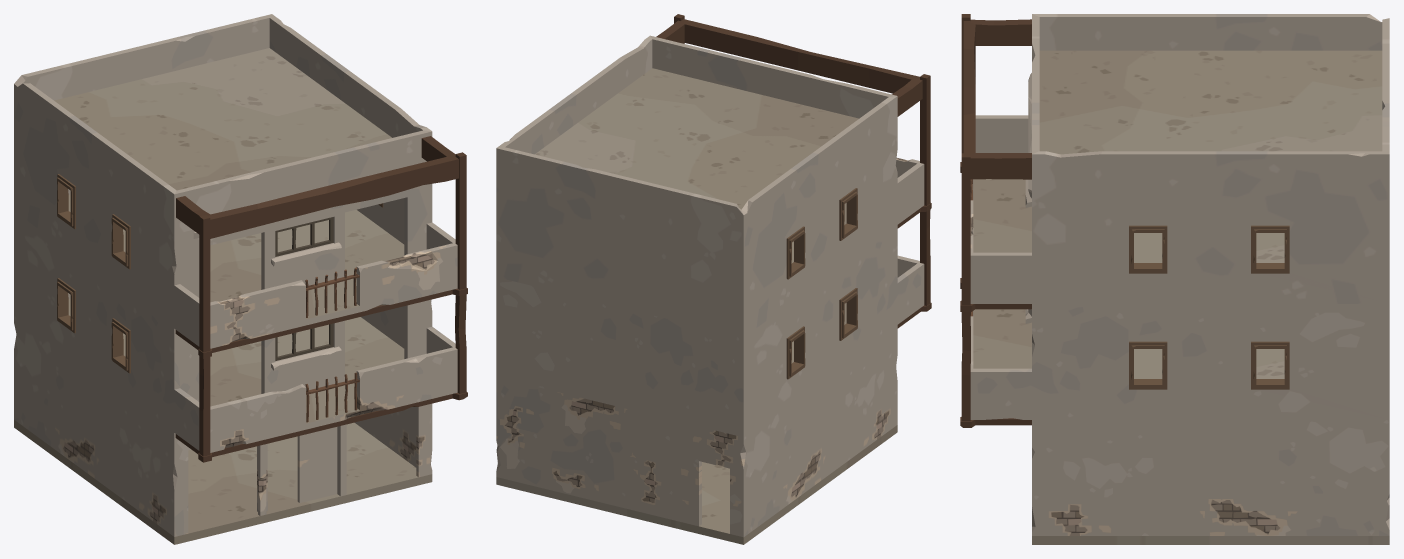
Rendered from SM_Bld_Shop_04.fbx.
3 renders of one model, left to right at view 1: azimuth 30°, elevation 25°; view 2: azimuth 150°, elevation 25°; view 3: azimuth 270°, elevation 25°, orthographic. The views are drawn at different scales.
Visible parts, largest first — view 1: SM_Bld_Shop_04; view 2: SM_Bld_Shop_04; view 3: SM_Bld_Shop_04.
Boxes of the visible parts, x1,y1,x2,y2 form: SM_Bld_Shop_04: (14, 14, 467, 544); SM_Bld_Shop_04: (496, 14, 931, 544); SM_Bld_Shop_04: (960, 14, 1389, 544).
Bounding box in the file's own units: 920 × 1164 × 1159.
